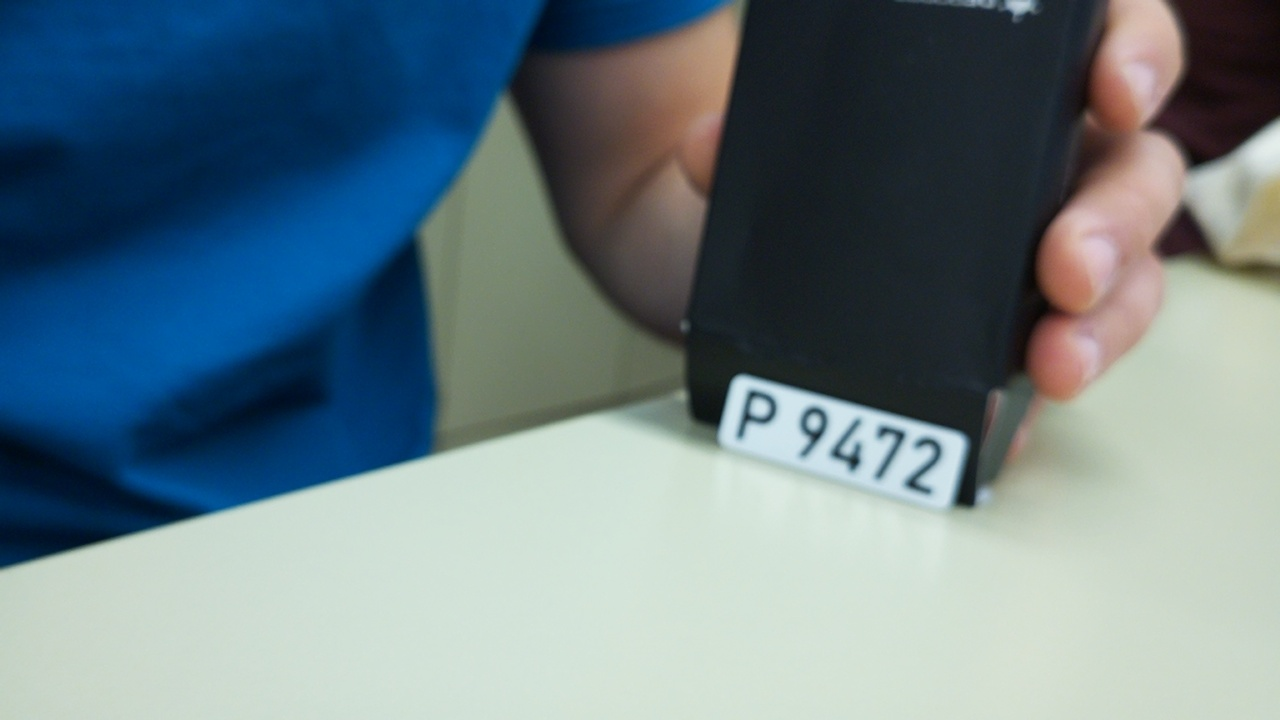license_plate: (715, 369, 971, 512)
